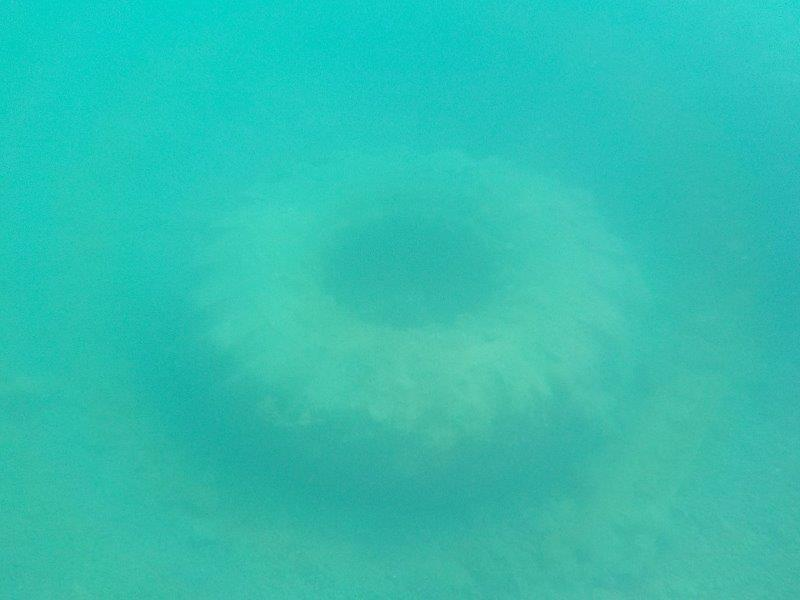tire: (174, 130, 648, 511)
